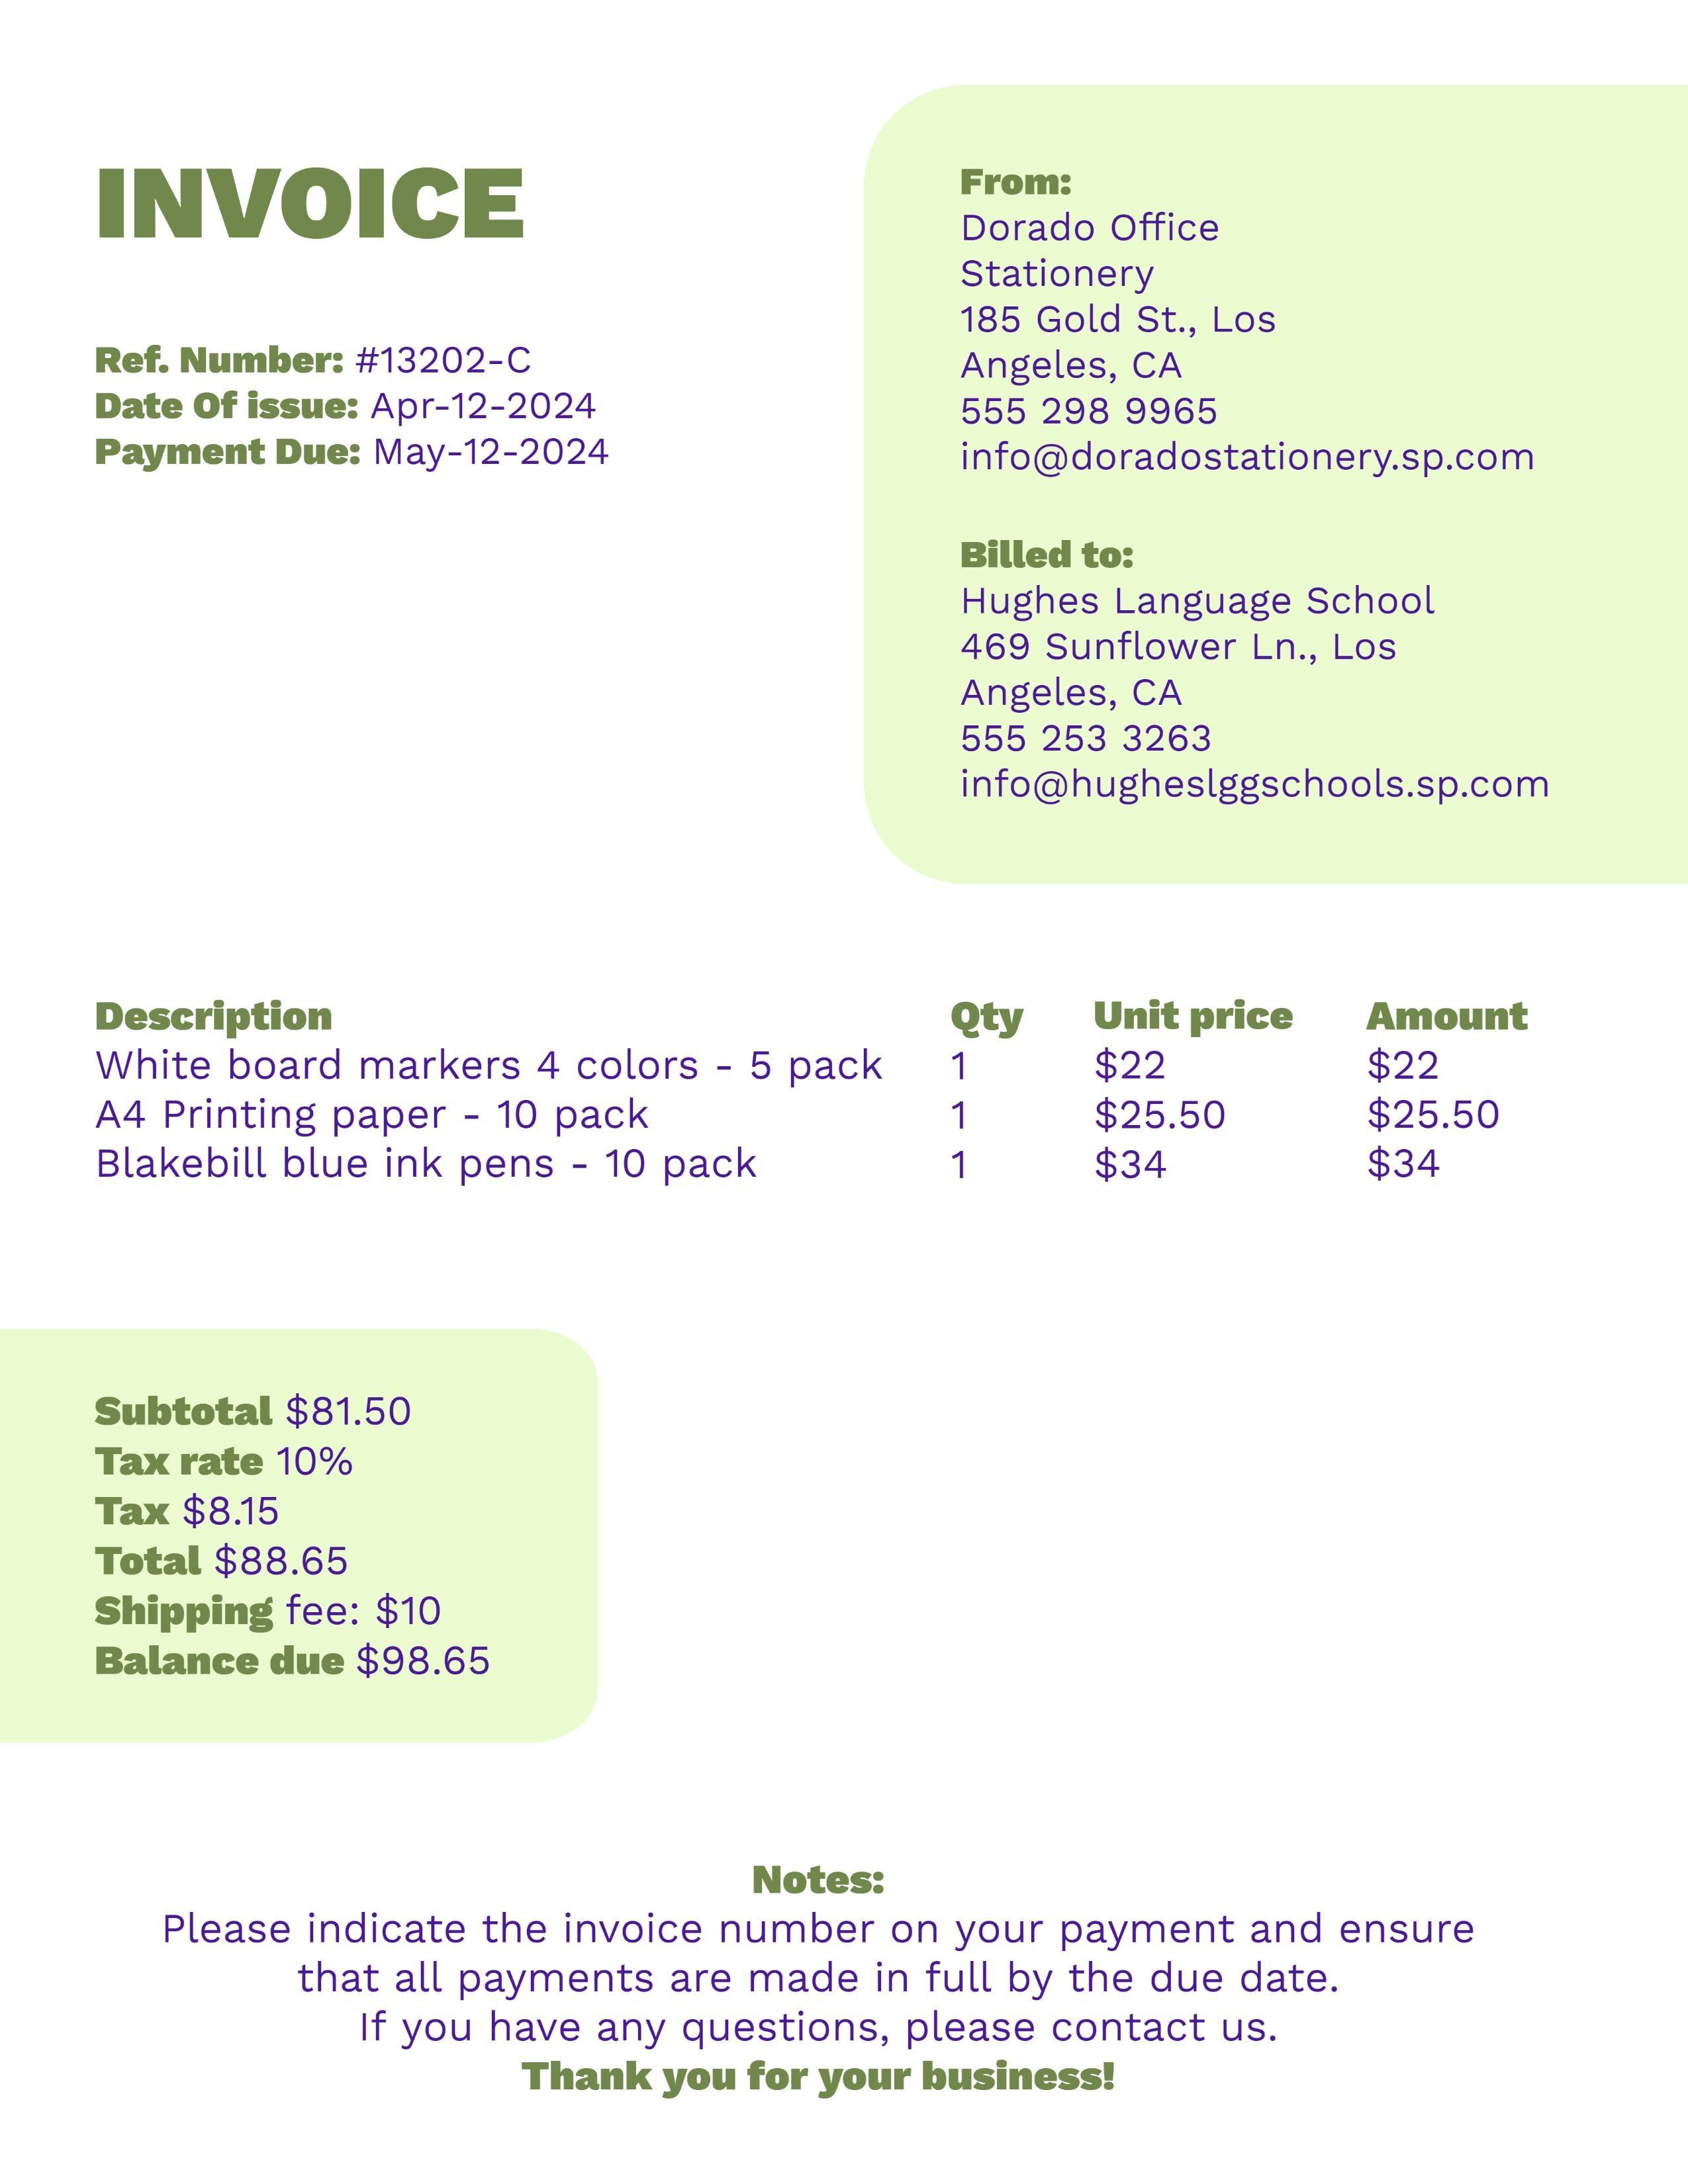ROI: (78, 982, 1551, 1198), (942, 163, 1596, 500), (160, 1893, 1498, 2055), (938, 537, 1599, 837), (64, 1379, 512, 1691), (82, 340, 628, 489)
